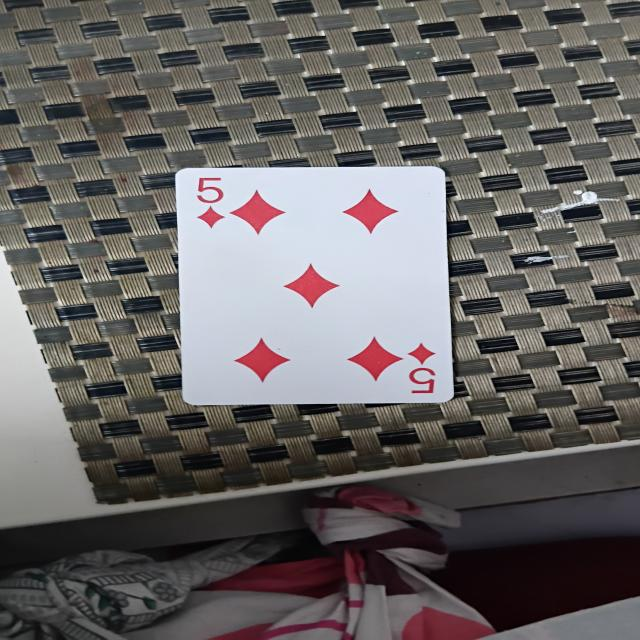5D: (182, 161, 454, 408)
